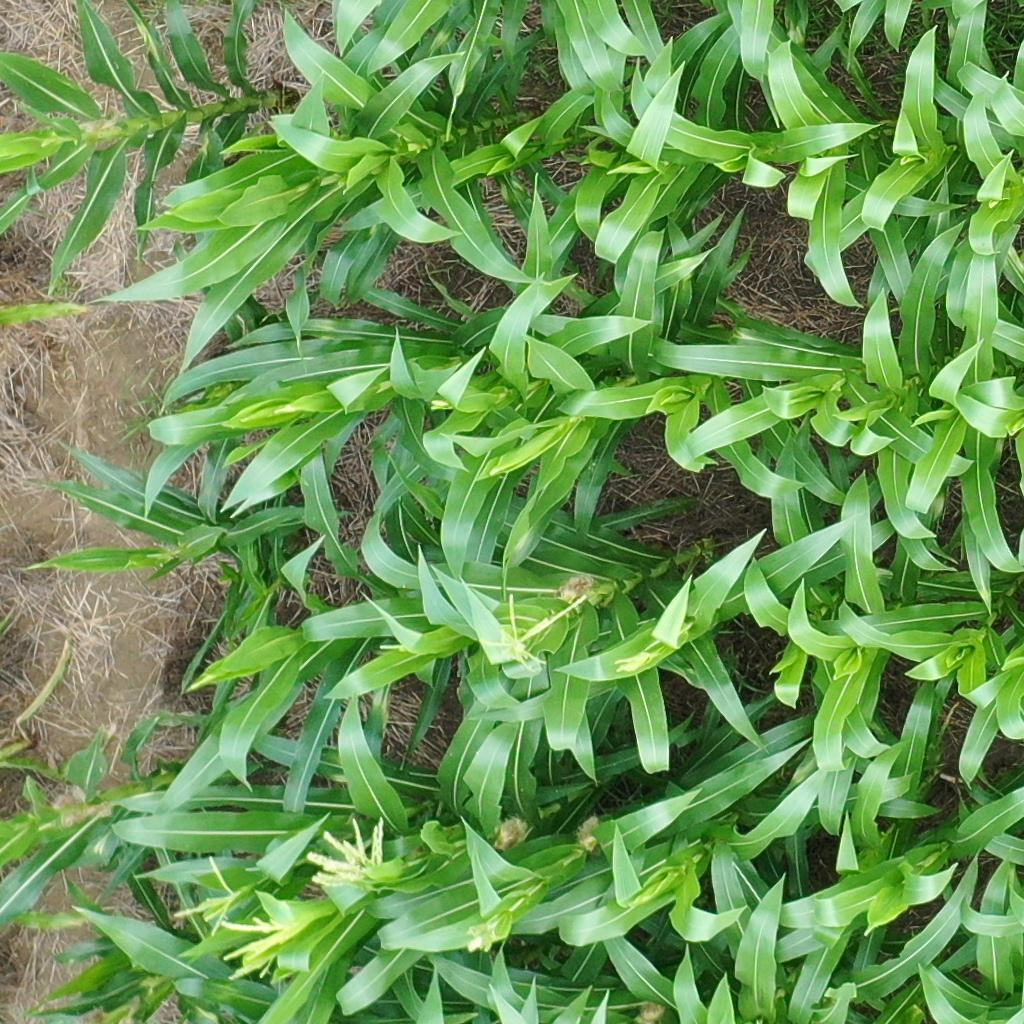Tassel: (472, 592, 588, 677), (300, 809, 393, 887), (168, 851, 235, 932), (221, 918, 297, 979), (611, 647, 654, 684), (421, 397, 457, 411)
